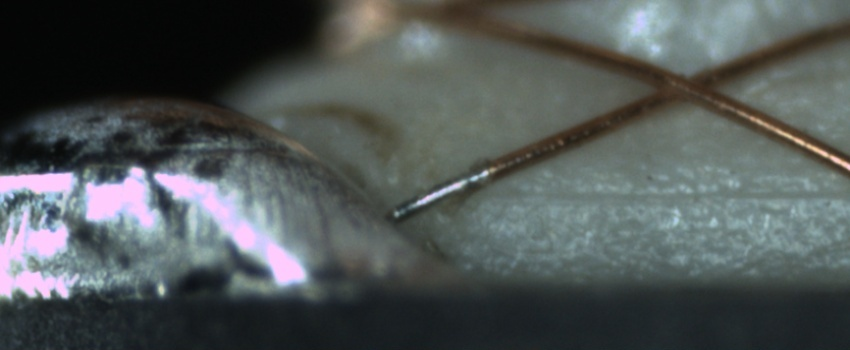CL: (644, 56, 736, 113)
DL: (485, 159, 850, 229)
TS: (387, 169, 487, 223)
TTCW: (388, 153, 511, 219)
